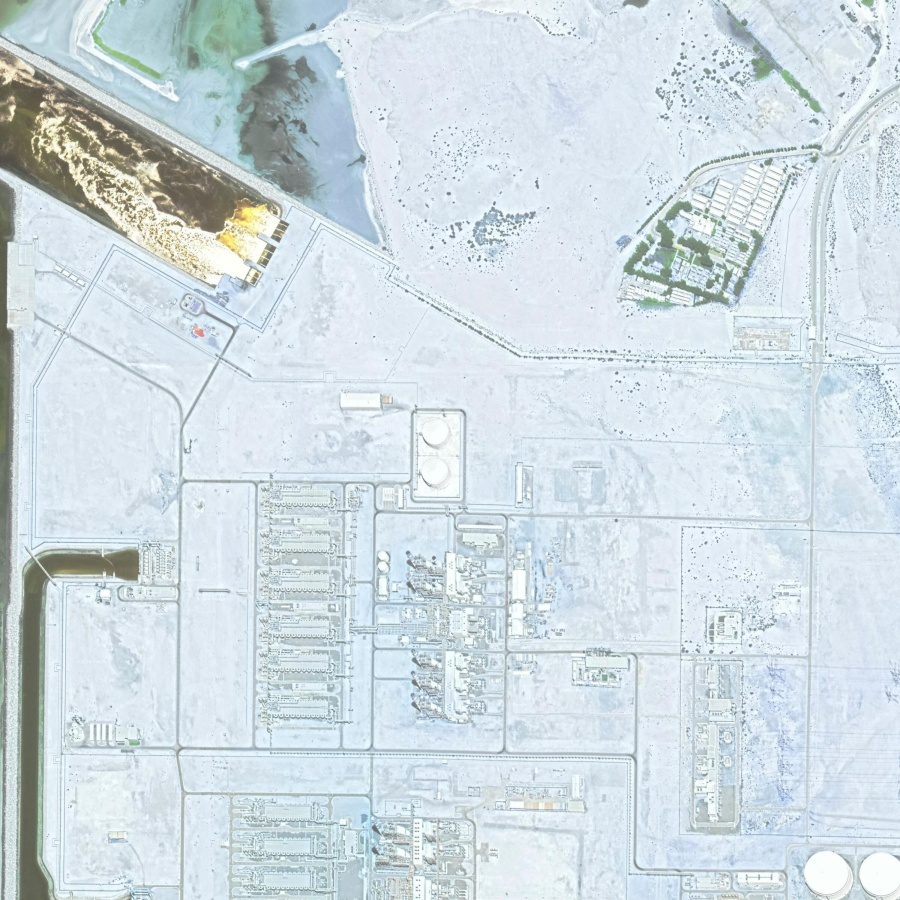PowerPlant: (254, 385, 585, 729)
